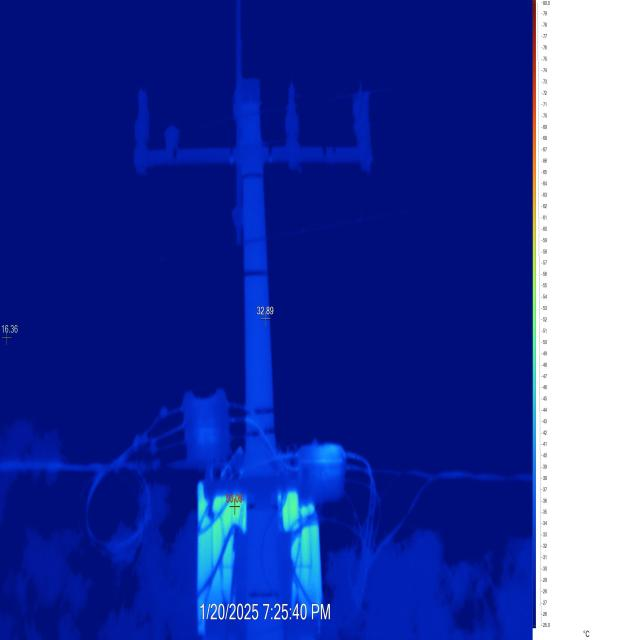Transformer: (0, 1, 535, 640)
